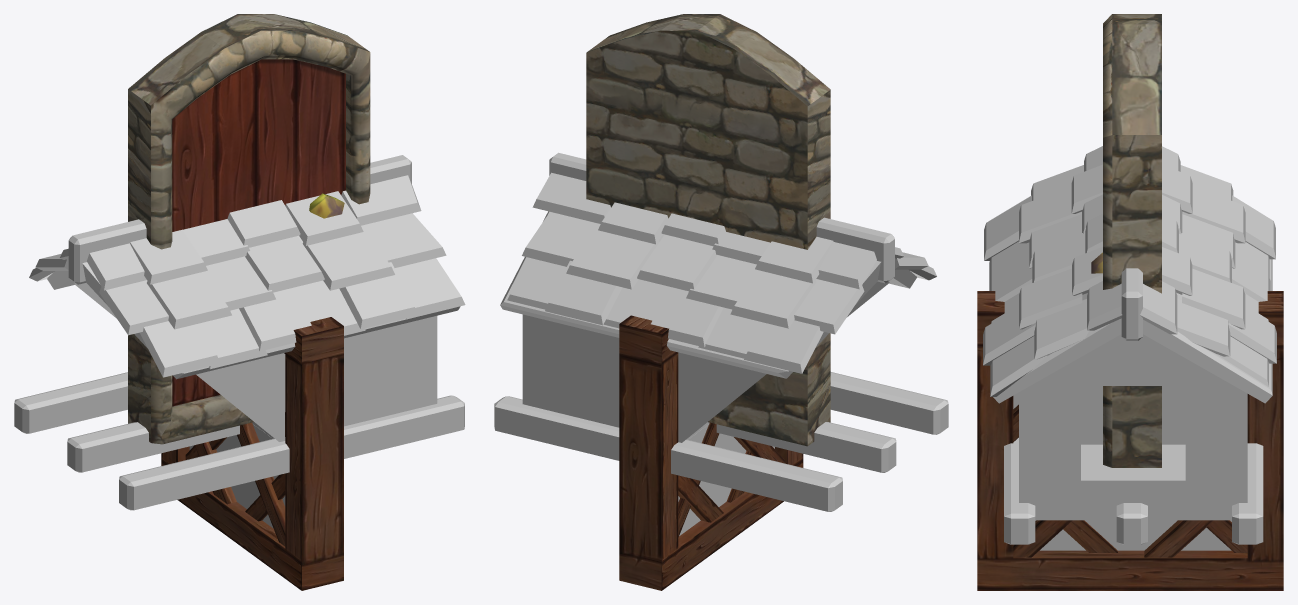
Rendered from Misc.fbx.
3 renders of one model, left to right at view 1: azimuth 30°, elevation 25°; view 2: azimuth 150°, elevation 25°; view 3: azimuth 270°, elevation 25°, orthographic. The views are drawn at different scales.
Parts seen in each view (by area): view 1: Cherdak.11, DoorM, Cube.072, Glass1; view 2: Cherdak.11, DoorM, Cube.072, Glass1; view 3: Cherdak.11, Cube.072, DoorM, Glass1.
Boxes of the visible parts, x1=… form: Cherdak.11: x1=14, y1=155, x2=465, y2=510; DoorM: x1=128, y1=14, x2=370, y2=444; Cube.072: x1=161, y1=317, x2=343, y2=590; Glass1: x1=189, y1=422, x2=285, y2=528; Cherdak.11: x1=494, y1=152, x2=948, y2=511; DoorM: x1=586, y1=14, x2=830, y2=446; Cube.072: x1=619, y1=315, x2=803, y2=590; Glass1: x1=678, y1=422, x2=774, y2=535; Cherdak.11: x1=983, y1=146, x2=1276, y2=544; Cube.072: x1=977, y1=291, x2=1283, y2=590; DoorM: x1=1091, y1=14, x2=1161, y2=467; Glass1: x1=1013, y1=392, x2=1231, y2=550.
Bounding box in the file's own units: 359 × 518 × 259.
